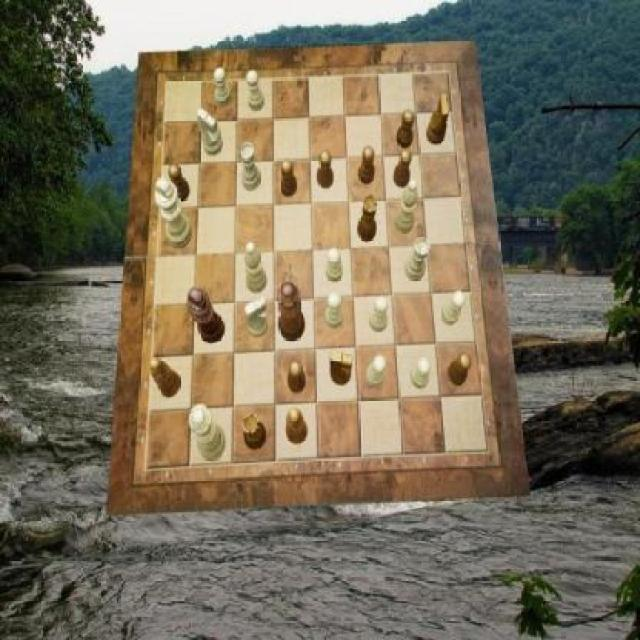bishop: (149, 357, 182, 398), (286, 406, 309, 444)
black-bishop: (188, 288, 225, 344)
black-king: (426, 94, 449, 144), (331, 351, 354, 385)
black-knight: (392, 148, 412, 188), (169, 165, 190, 202), (448, 351, 470, 385), (397, 109, 415, 149), (358, 146, 376, 184), (280, 160, 297, 198), (317, 151, 334, 189), (288, 359, 305, 393)
black-pawn: (277, 283, 306, 343)
black-queen: (357, 194, 377, 241), (243, 412, 267, 450)
black-rook: (394, 178, 418, 232), (245, 241, 268, 294)
white-bishop: (155, 177, 193, 249)
white-king: (197, 109, 223, 157), (244, 295, 268, 338)
white-knight: (443, 291, 466, 325), (248, 71, 265, 112), (366, 357, 387, 389), (214, 68, 231, 106), (411, 357, 431, 389), (325, 292, 342, 328), (371, 297, 388, 331), (326, 248, 343, 282)
white-pawn: (189, 405, 226, 462)
white-queen: (404, 237, 430, 281), (240, 143, 261, 192)
